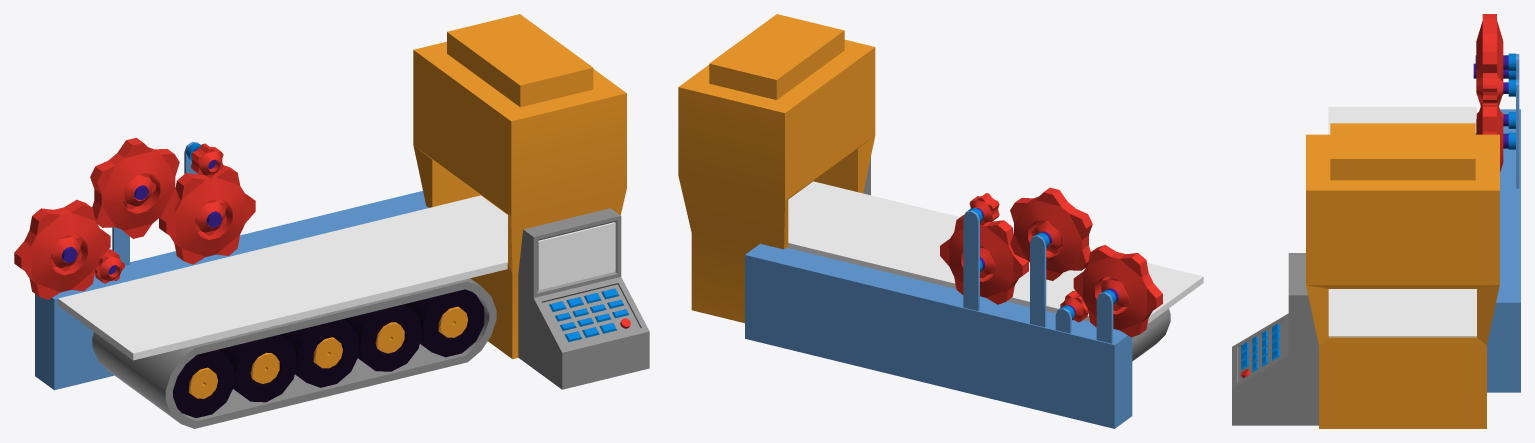
3 renders of one model, left to right at view 1: azimuth 30°, elevation 25°; view 2: azimuth 150°, elevation 25°; view 3: azimuth 270°, elevation 25°, orthographic. The views are drawn at different scales.
Parts seen in each view (by area): view 1: Box007, Box001, Box008, Tube001, Box006, Tube011, Tube010, Tube007, Box009, Tube004, Tube006, Tube005 (+13 smaller); view 2: Box007, Box006, Box001, Tube011, Tube010, Tube007, Box002, Box003, Tube001, Box005, Tube014, Tube009 (+1 smaller); view 3: Box007, Box001, Box008, Box006, Tube010, Plane001, Tube007, Tube014, Box002.
Boxes of the visible parts, left/top/right/bottom form: Box007: left=413, top=14, right=626, bottom=359; Box001: left=58, top=195, right=507, bottom=360; Box008: left=518, top=208, right=649, bottom=389; Tube001: left=92, top=278, right=496, bottom=428; Box006: left=35, top=191, right=428, bottom=390; Tube011: left=14, top=199, right=110, bottom=299; Tube010: left=90, top=137, right=179, bottom=238; Tube007: left=159, top=165, right=255, bottom=264; Box009: left=538, top=222, right=615, bottom=290; Tube004: left=279, top=319, right=359, bottom=387; Tube006: left=404, top=289, right=484, bottom=357; Tube005: left=343, top=304, right=422, bottom=371; Box007: left=678, top=14, right=875, bottom=323; Box006: left=745, top=243, right=1132, bottom=428; Box001: left=788, top=181, right=1203, bottom=323; Tube011: left=1073, top=245, right=1162, bottom=337; Tube010: left=1010, top=187, right=1092, bottom=280; Tube007: left=940, top=214, right=1028, bottom=304; Box002: left=963, top=210, right=979, bottom=310; Box003: left=1030, top=235, right=1046, bottom=327; Tube001: left=1132, top=308, right=1170, bottom=361; Box005: left=1096, top=292, right=1113, bottom=343; Tube014: left=969, top=193, right=999, bottom=225; Tube009: left=1031, top=220, right=1062, bottom=253; Box007: left=1306, top=123, right=1499, bottom=428; Box001: left=1328, top=107, right=1476, bottom=337; Box008: left=1232, top=253, right=1318, bottom=425; Box006: left=1487, top=109, right=1520, bottom=392; Tube010: left=1476, top=14, right=1503, bottom=102; Plane001: left=1241, top=324, right=1279, bottom=372; Tube007: left=1476, top=101, right=1503, bottom=172; Tube014: left=1476, top=73, right=1503, bottom=103; Box002: left=1516, top=79, right=1519, bottom=188.
Size of the model in its own units: 77.33 by 38.11 by 37.84.
